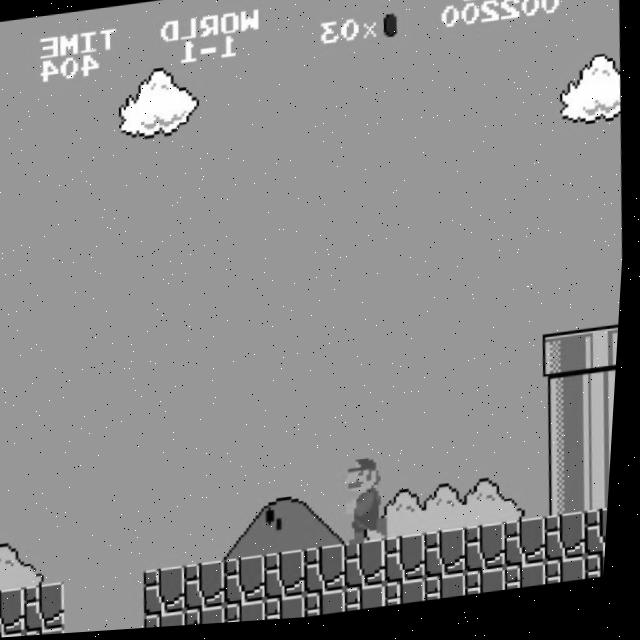0- big_mario: (347, 452, 400, 551)
14- pipe: (545, 382, 592, 433), (546, 428, 593, 479), (548, 473, 594, 524), (586, 377, 621, 427), (586, 423, 619, 473), (587, 468, 617, 519)
15- pipe_head: (544, 337, 590, 388), (585, 331, 623, 382)
17- undestructible_block: (148, 567, 195, 619), (508, 524, 555, 575), (468, 529, 515, 580), (348, 543, 395, 594), (308, 548, 355, 599), (188, 563, 235, 614), (28, 582, 75, 633), (549, 518, 595, 570), (429, 533, 475, 585), (389, 538, 435, 590), (268, 553, 314, 604), (229, 558, 275, 609), (0, 586, 35, 638), (350, 588, 395, 617), (310, 593, 354, 622), (589, 514, 614, 565), (510, 569, 555, 597), (390, 584, 435, 612), (551, 564, 595, 592), (470, 574, 514, 602), (430, 579, 474, 607), (270, 598, 314, 624), (230, 603, 274, 626), (190, 607, 234, 628), (150, 612, 194, 631), (591, 560, 612, 587), (30, 628, 74, 637), (0, 632, 33, 639)
